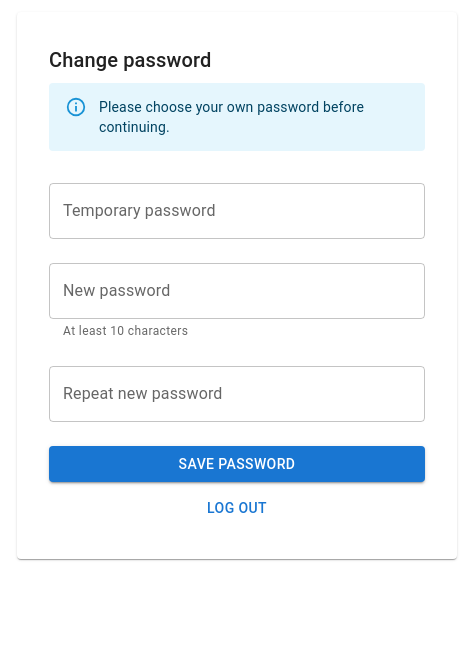
Test case: Change password › checks the new password before sending it
Step 1. Type "Temp-Pass-12345" into the password field labelled "Temporary password" → (237, 211), box [49,183,425,239]
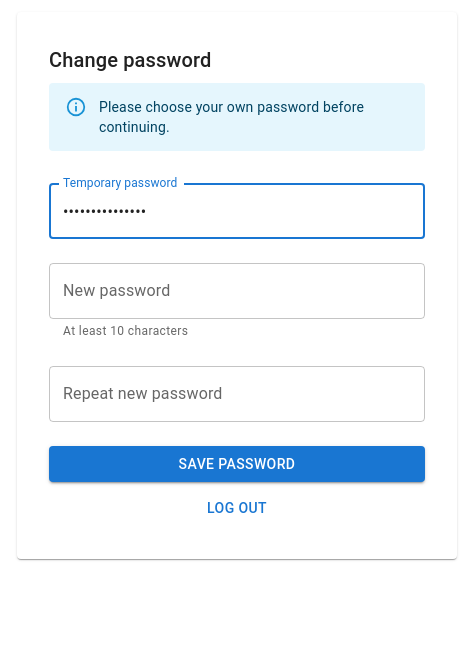
Step 2. Type "Short1" into the password field labelled "New password" → (237, 291), box [49,263,425,319]
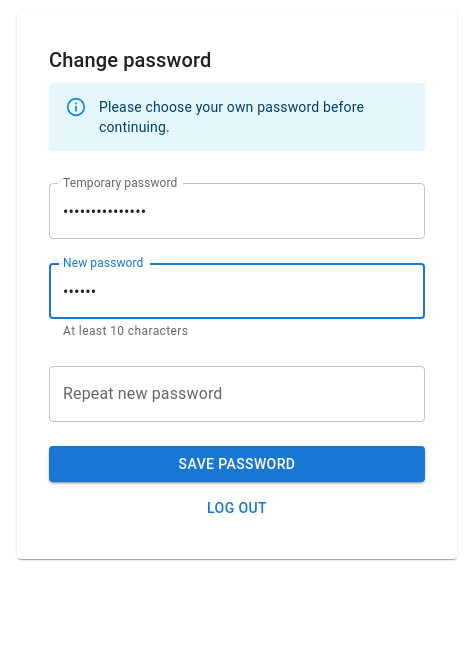
Step 3. Type "Short1" into the password field labelled "Repeat new password" → (237, 394), box [49,366,425,422]
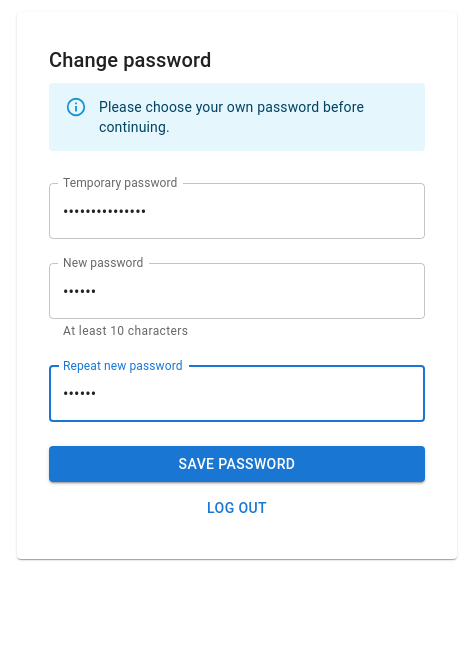
Step 4. Click the button "Save password" → (237, 464), box [49,446,425,482]
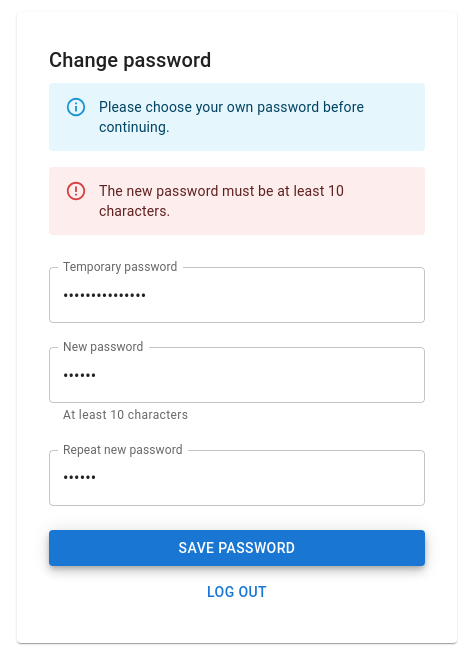
expect the text "The new password must be at least 10 characters." is shown: met, box [99,183,344,219]
